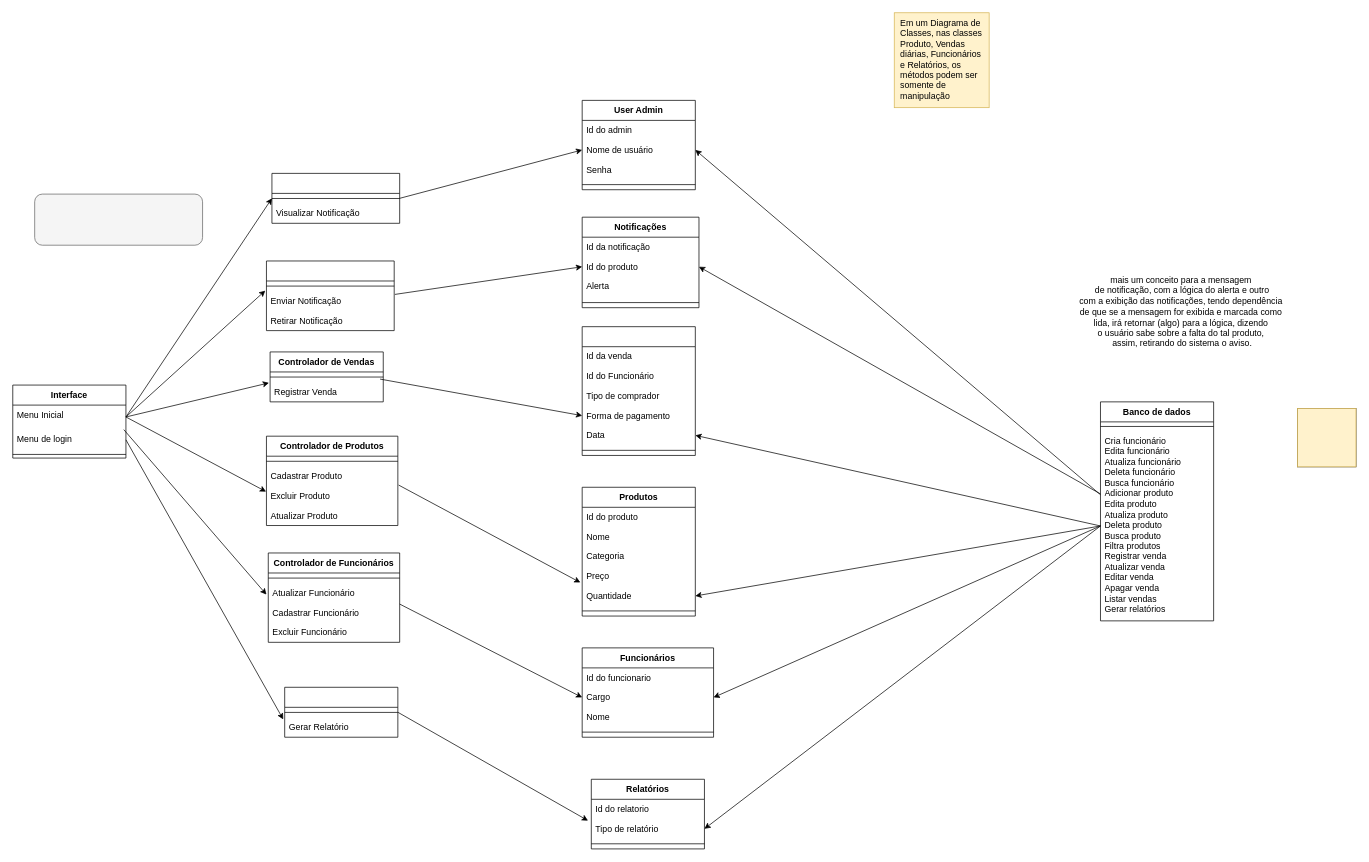
Some shapes in this 1369 by 862 pixel diagram are drawn without their labels. Each missing label, with the box of its shape:
Controlador de Notificações?: (266, 260, 394, 331)
Controlador de Relatórios: (284, 687, 398, 737)
Controlador de Users?: (271, 173, 400, 223)
Falta adicionar "atributos" no banco de dados: (1297, 408, 1356, 467)
Modelo conceitual: (34, 193, 203, 245)
Vendas: (581, 326, 695, 455)
